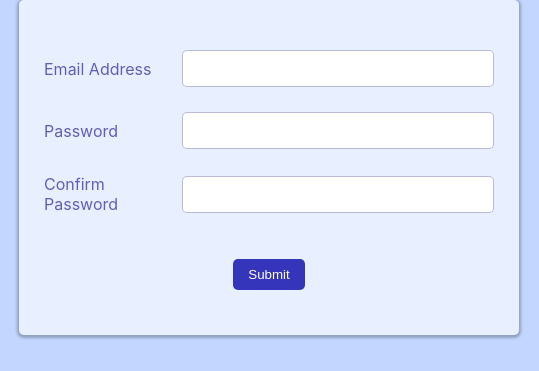
Test: Form › Error Handling › if email valid, should show password error message when password contains less than 5 characters
expect the text "the password you entered should contain 5 or more characters" is not shown: met
Step 1. Type "wiu@gmail.com" into the field labelled "Email Address" → coordinates (338, 68), box [182,50,494,87]
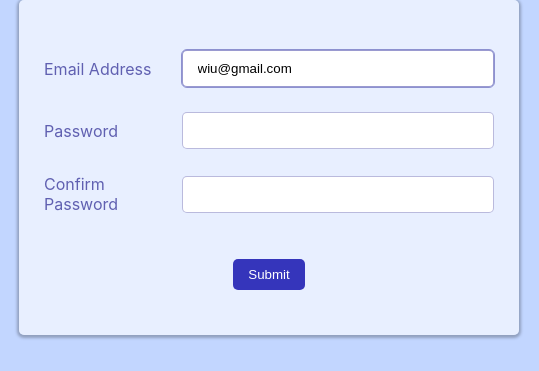
Step 2. Type "wiu6" into the password field labelled "Password" → coordinates (338, 130), box [182,112,494,149]
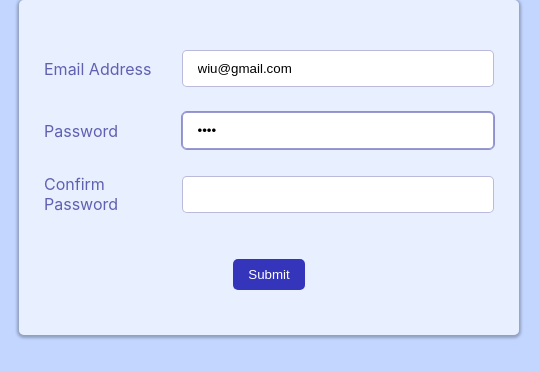
Step 3. Click the button "Submit" → coordinates (269, 274), box [233,259,305,290]
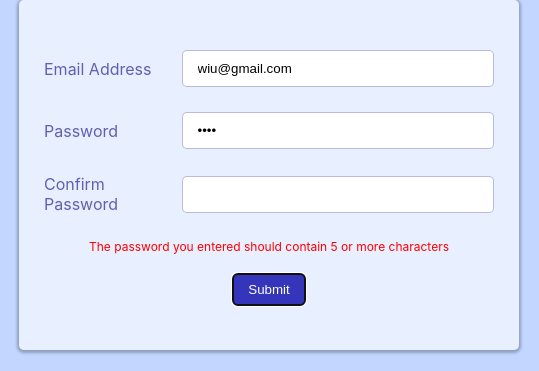
expect the text "The password you entered should contain 5 or more characters" is shown: met, box [89,239,449,254]
